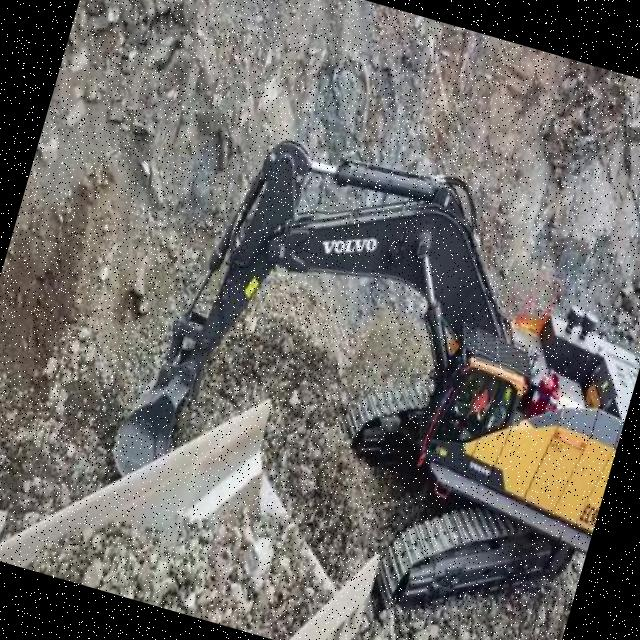Dump Truck: (0, 314, 411, 640)
Excavator: (87, 97, 640, 640)
